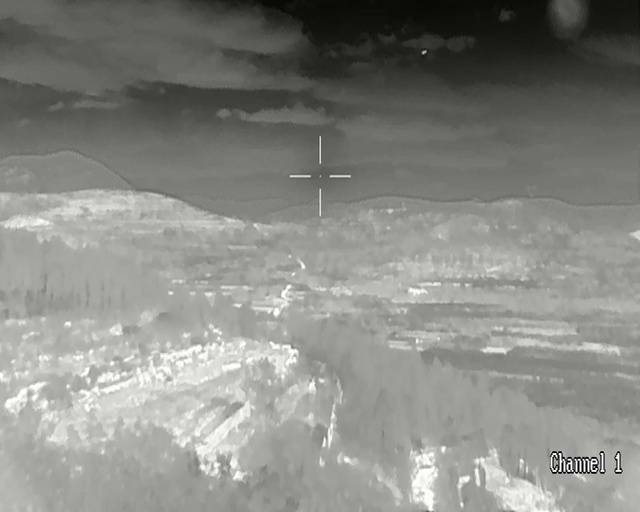uav: (421, 49, 426, 54)
